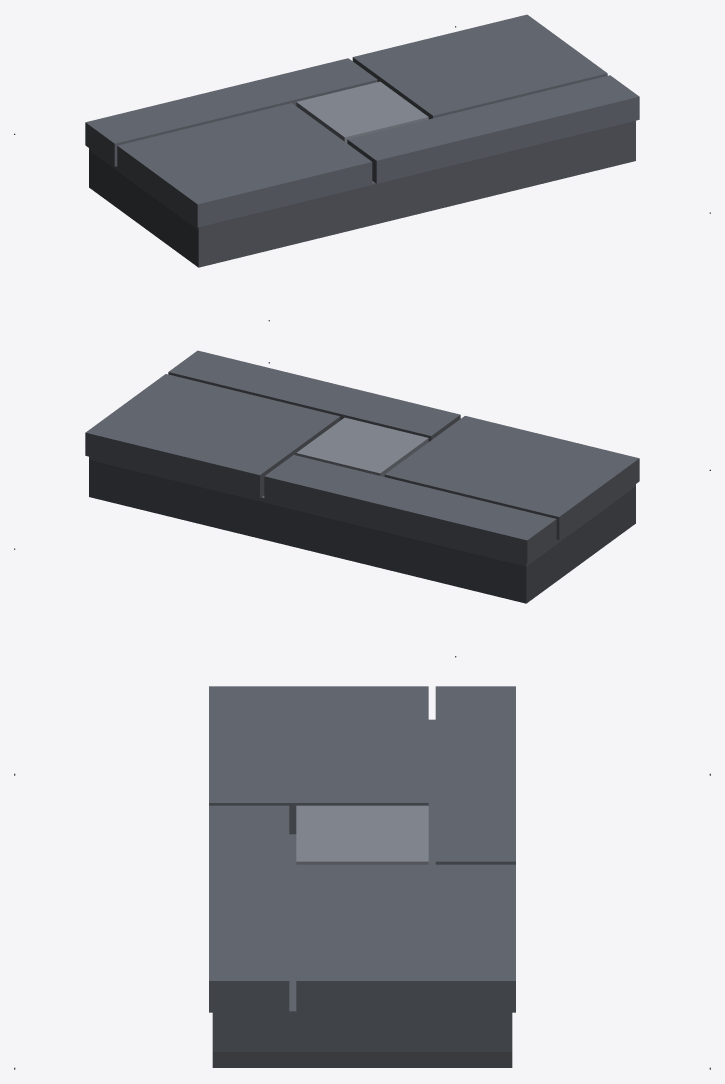
Rendered from floor_metal_straight.glb.
3 views of the same model, one above another, from view 1: azimuth 30°, elevation 25°; view 2: azimuth 150°, elevation 25°; view 3: azimuth 270°, elevation 25° (orthographic). The views are drawn at different scales.
Bounding box in the file's own units: 1 × 0.14 × 1.
Materials: 1 (1 with a texture image).
